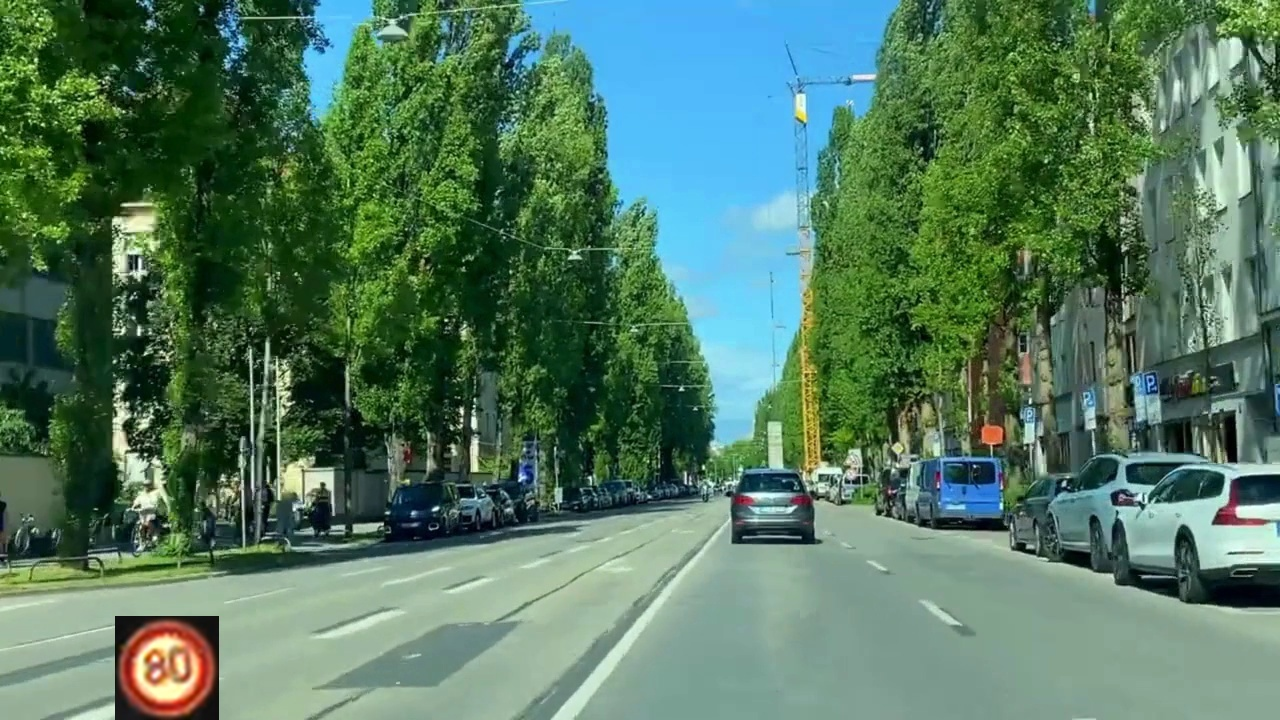Speed 80: (115, 616, 219, 720)
